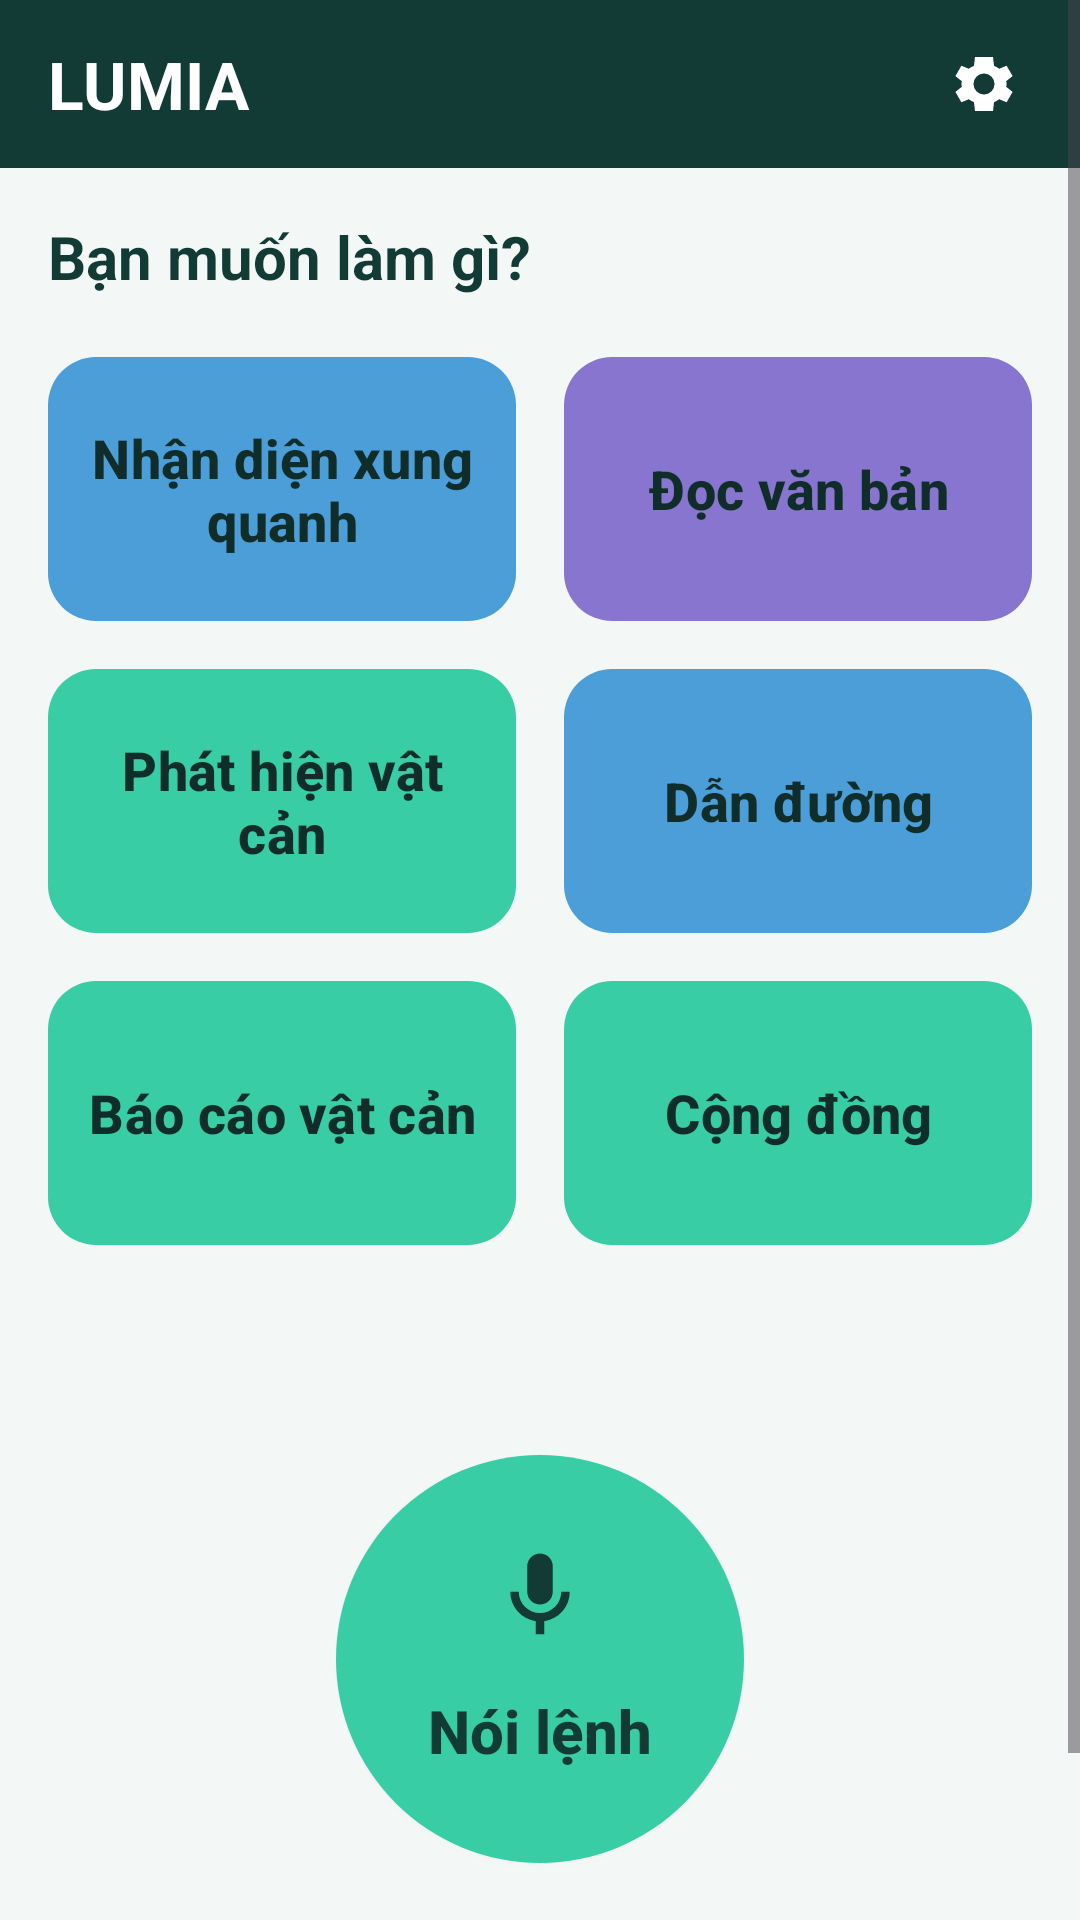

Icon click points for this 1080px x 1920px phone screenshot, format point (x, y):
Cài đặt: point (984, 84)
